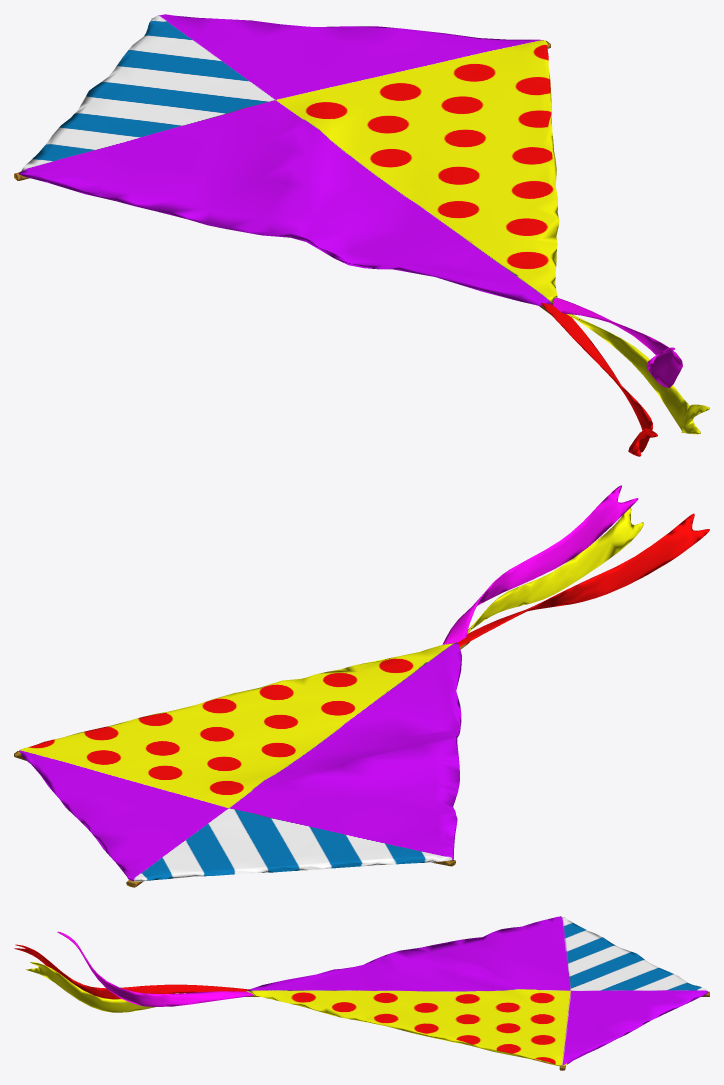
The model's file is kite.fbx.
The picture shows the model from 3 angles, top to bottom: view 1: azimuth 30°, elevation 25°; view 2: azimuth 150°, elevation 25°; view 3: azimuth 270°, elevation 25°; orthographic projection. The views are drawn at different scales.
Visible parts, largest first — view 1: node_id91; view 2: node_id91; view 3: node_id91.
Part boxes in pixels (x1,y1,x2,y2): node_id91: (14,14,709,456); node_id91: (14,485,709,887); node_id91: (14,916,709,1070).
Bounding box in the file's own units: 26.51 × 5.47 × 51.2.
